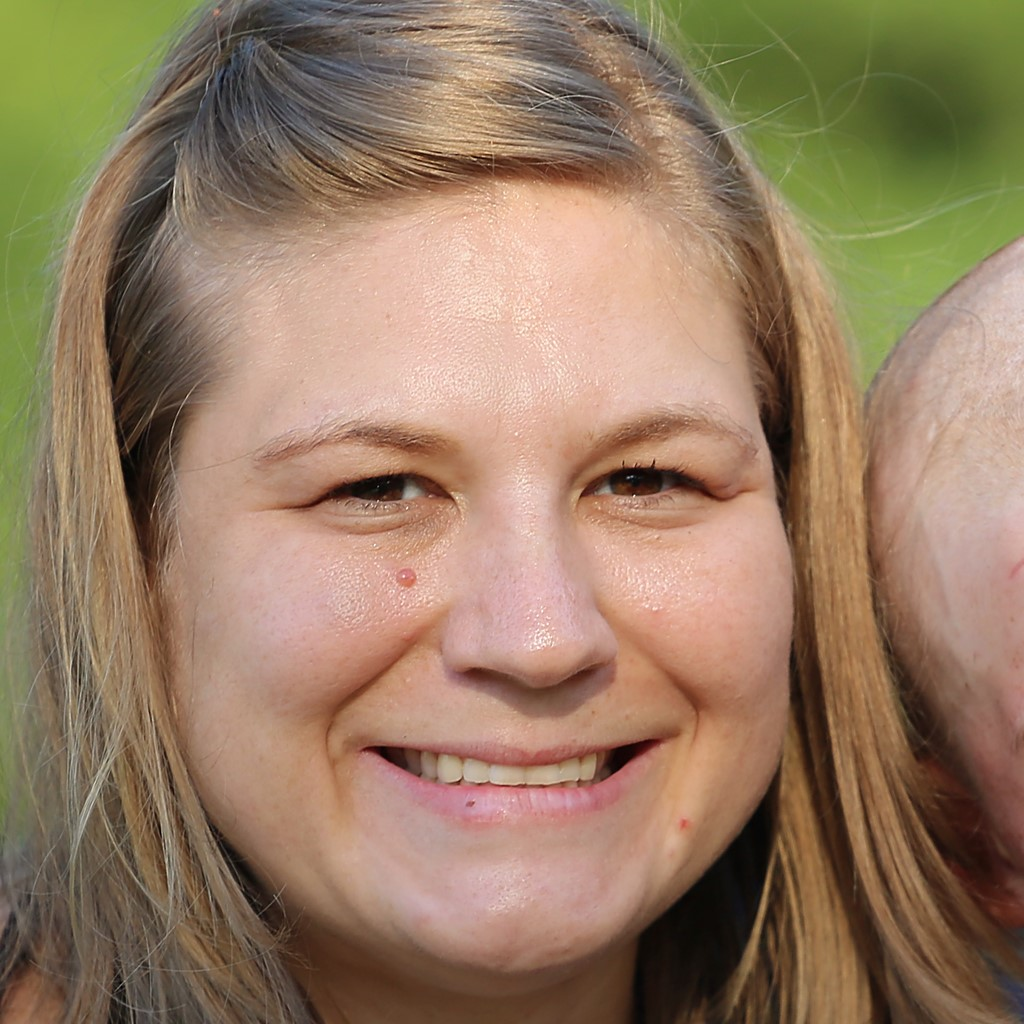sin_mascara: (158, 90, 795, 954)
